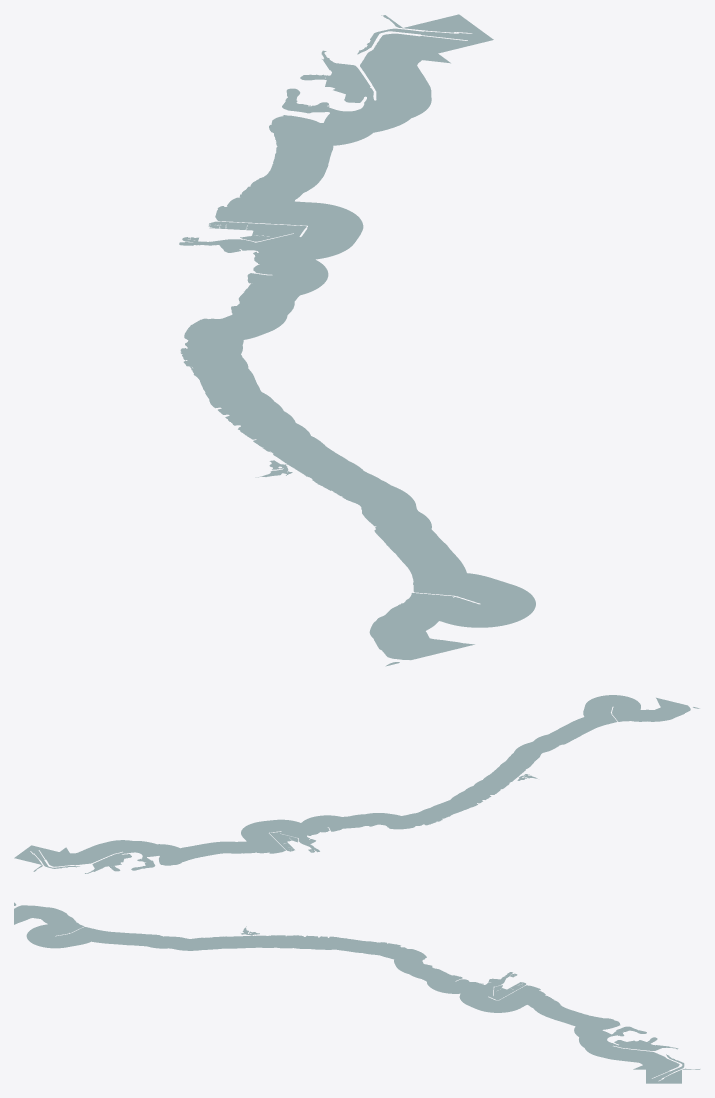
The model's file is subway-coastal-water.glb.
3 renders of one model, top to bottom at view 1: azimuth 30°, elevation 25°; view 2: azimuth 150°, elevation 25°; view 3: azimuth 270°, elevation 25°, orthographic. The views are drawn at different scales.
Visible parts, largest first — view 1: SubwayLakeOntario; view 2: SubwayLakeOntario; view 3: SubwayLakeOntario.
Part boxes in pixels (x1,y1,x2,y2): SubwayLakeOntario: (179,14,535,666); SubwayLakeOntario: (14,695,699,873); SubwayLakeOntario: (14,902,700,1083).
Size of the model in its own units: 6064 by 0 by 9693.
